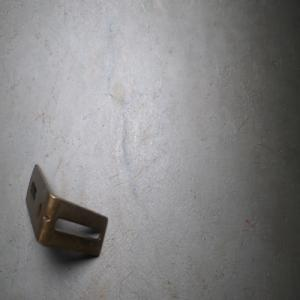MetalPart: (24, 162, 108, 258)
